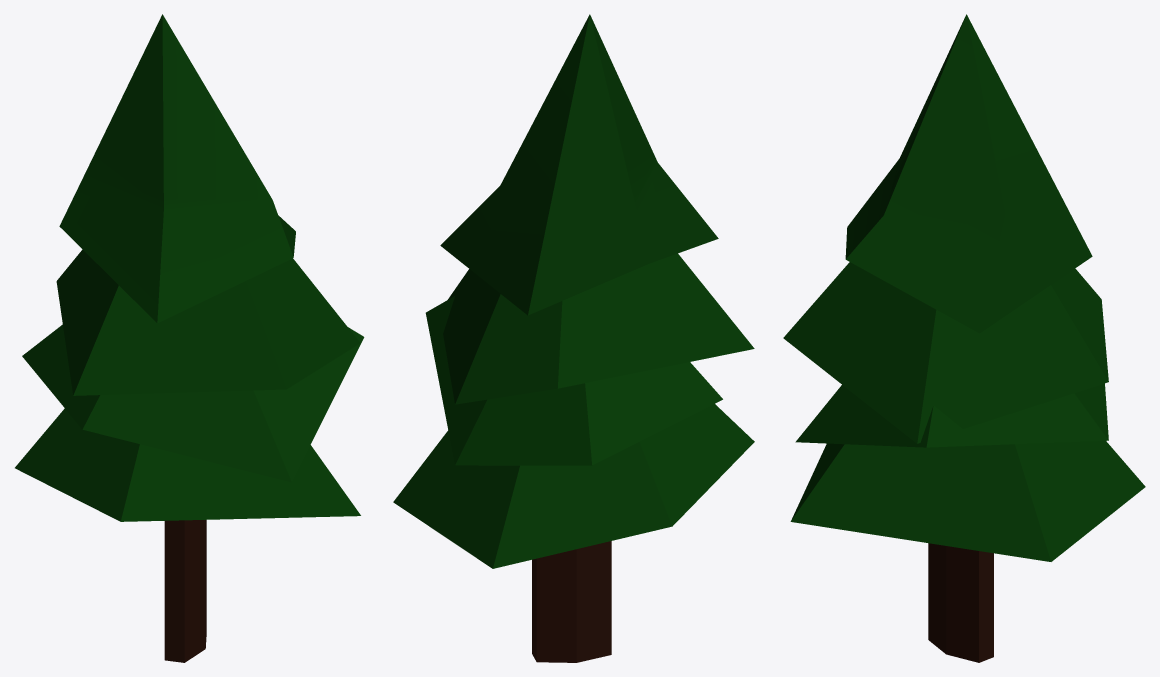
File: LowPolyTree.obj
3 renders of one model, left to right at view 1: azimuth 30°, elevation 25°; view 2: azimuth 150°, elevation 25°; view 3: azimuth 270°, elevation 25°, orthographic. The views are drawn at different scales.
Parts seen in each view (by area): view 1: trees; view 2: trees; view 3: trees.
Boxes of the visible parts, bbox=[...] form: trees: bbox=[15, 14, 364, 662]; trees: bbox=[393, 14, 754, 662]; trees: bbox=[783, 14, 1145, 662].
Size of the model in its own units: 2.35 by 4.64 by 2.44.
